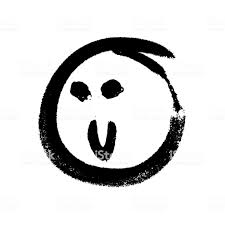feliz: (20, 29, 208, 196), (67, 81, 130, 160)
